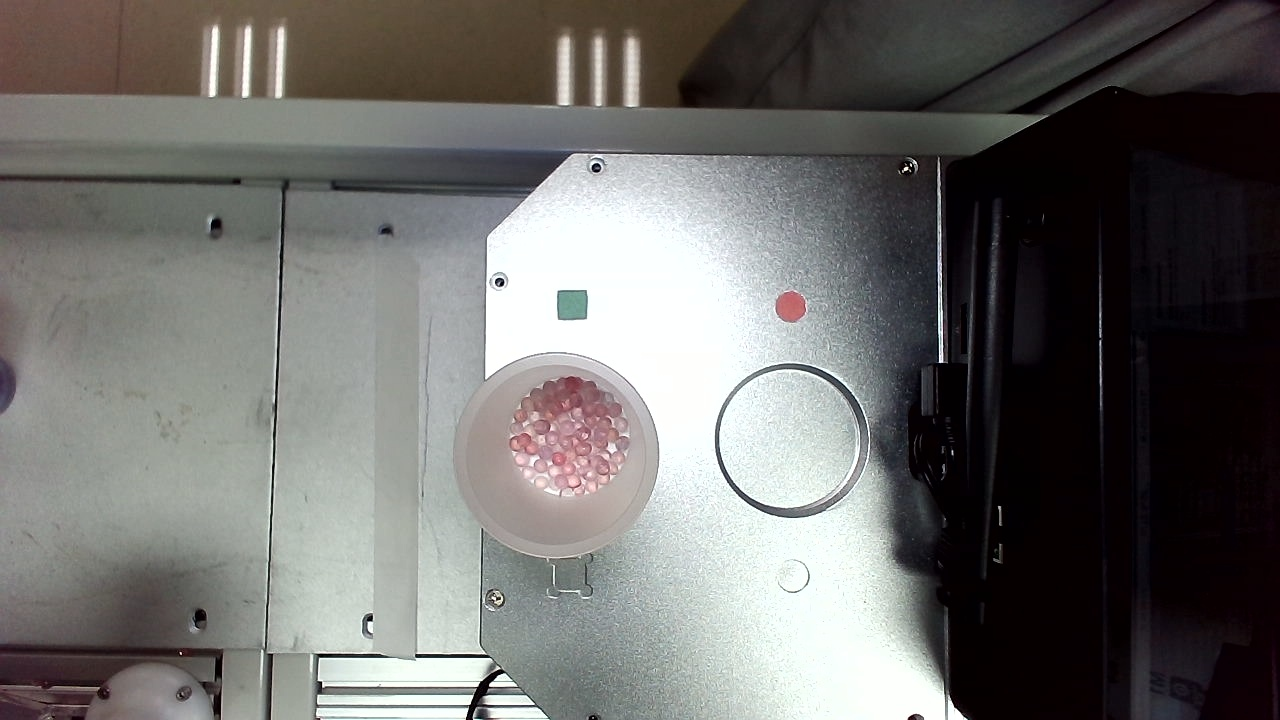bad: (769, 600, 816, 647), (282, 586, 327, 634), (291, 148, 338, 192), (272, 29, 313, 70), (706, 617, 747, 658), (692, 75, 733, 116), (693, 1, 738, 38), (836, 154, 876, 194), (540, 427, 576, 469), (807, 374, 846, 412), (355, 94, 392, 134), (677, 231, 714, 269), (409, 239, 451, 272), (845, 497, 884, 532), (839, 368, 875, 404), (831, 52, 866, 89), (727, 222, 761, 259), (797, 1, 828, 41), (329, 118, 365, 152), (764, 516, 798, 549)
defact: (717, 112, 743, 151)
pass: (640, 124, 680, 173), (465, 498, 508, 542), (628, 577, 669, 623), (830, 441, 870, 488), (370, 460, 410, 504), (682, 594, 720, 636), (742, 633, 780, 675), (588, 252, 626, 293), (449, 607, 484, 651), (831, 91, 867, 132), (540, 302, 578, 340), (780, 263, 817, 302), (801, 72, 840, 109), (536, 23, 573, 59), (811, 212, 848, 248), (662, 625, 698, 662), (799, 33, 832, 71)
toolong: (727, 393, 792, 443), (655, 548, 696, 608), (385, 54, 445, 93)
unpass: (832, 3, 874, 59), (267, 428, 313, 473), (838, 264, 879, 314), (468, 564, 506, 614), (370, 316, 410, 358), (582, 417, 621, 457), (485, 18, 523, 58), (401, 27, 440, 65), (805, 512, 842, 552), (401, 284, 439, 322), (734, 188, 771, 227), (336, 141, 373, 180), (852, 530, 889, 569), (755, 10, 790, 51), (350, 1, 387, 39), (513, 338, 548, 378), (565, 4, 600, 43), (453, 23, 489, 59), (793, 568, 827, 604), (766, 549, 800, 583)
